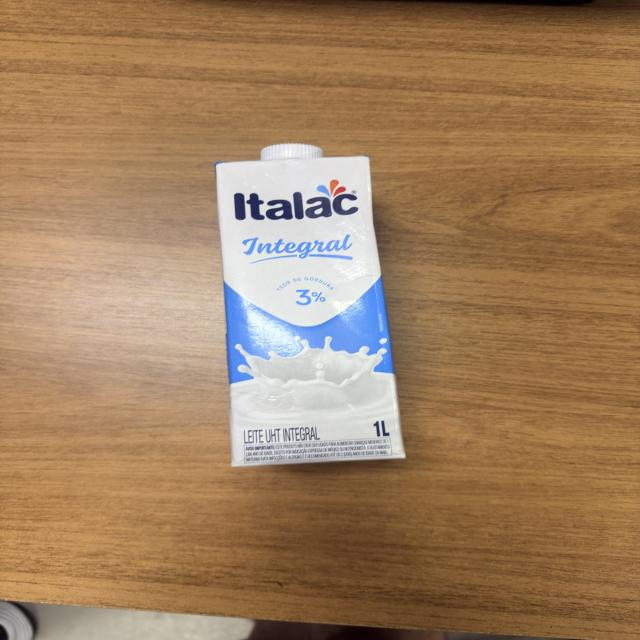Caixa de Leite: (213, 142, 410, 467)
